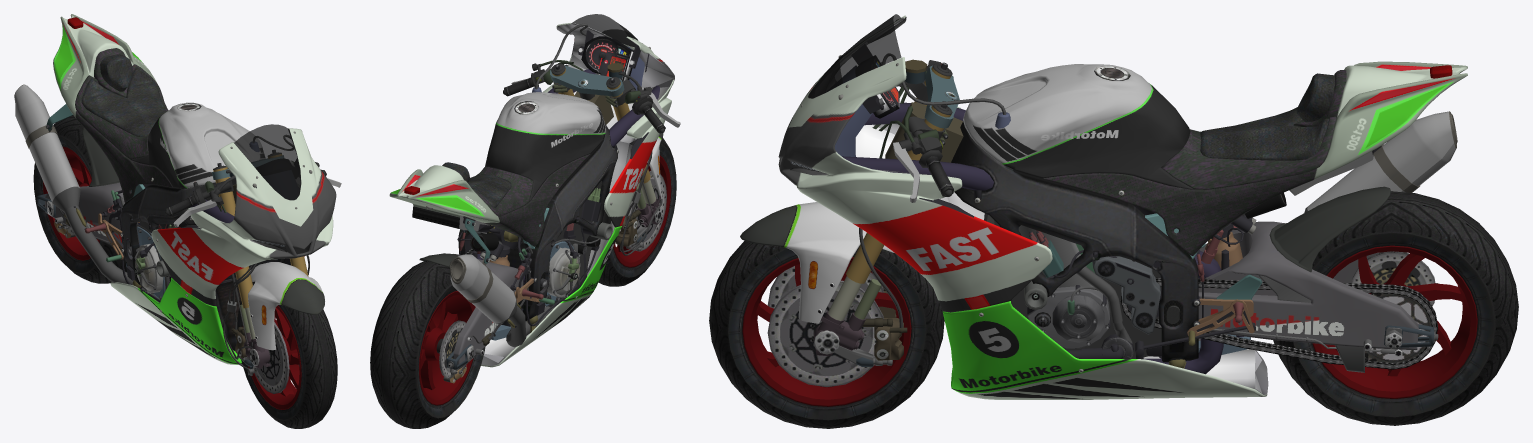
The model's file is Motorbike 10.FBX.
3 views of the same model, side by side, from view 1: azimuth 30°, elevation 25°; view 2: azimuth 150°, elevation 25°; view 3: azimuth 270°, elevation 25° (orthographic). The views are drawn at different scales.
Parts seen in each view (by area): view 1: Body, Wheel_F, Mudguard, Wheel_B, Forks_rear, Steer; view 2: Body, Wheel_B, Steer, Wheel_F, Forks_rear, Mudguard; view 3: Body, Wheel_B, Wheel_F, Forks_rear, Mudguard, Steer.
Boxes of the visible parts, x1,y1,x2,y2 form: Body: (14, 14, 336, 364); Wheel_F: (237, 281, 337, 428); Mudguard: (223, 255, 324, 375); Wheel_B: (33, 115, 126, 283); Forks_rear: (37, 127, 139, 249); Steer: (165, 150, 341, 308); Body: (389, 14, 674, 367); Wheel_B: (370, 261, 485, 428); Steer: (503, 60, 680, 183); Wheel_F: (598, 137, 676, 286); Forks_rear: (419, 248, 530, 383); Mudguard: (615, 133, 663, 255); Body: (778, 14, 1467, 399); Wheel_B: (1273, 191, 1518, 425); Wheel_F: (709, 241, 944, 428); Forks_rear: (1120, 186, 1438, 372); Mudguard: (740, 202, 907, 366); Steer: (846, 59, 959, 283).
Bounding box in the file's own units: 47.96 × 76.97 × 139.
Materials: 6 (4 with a texture image).
